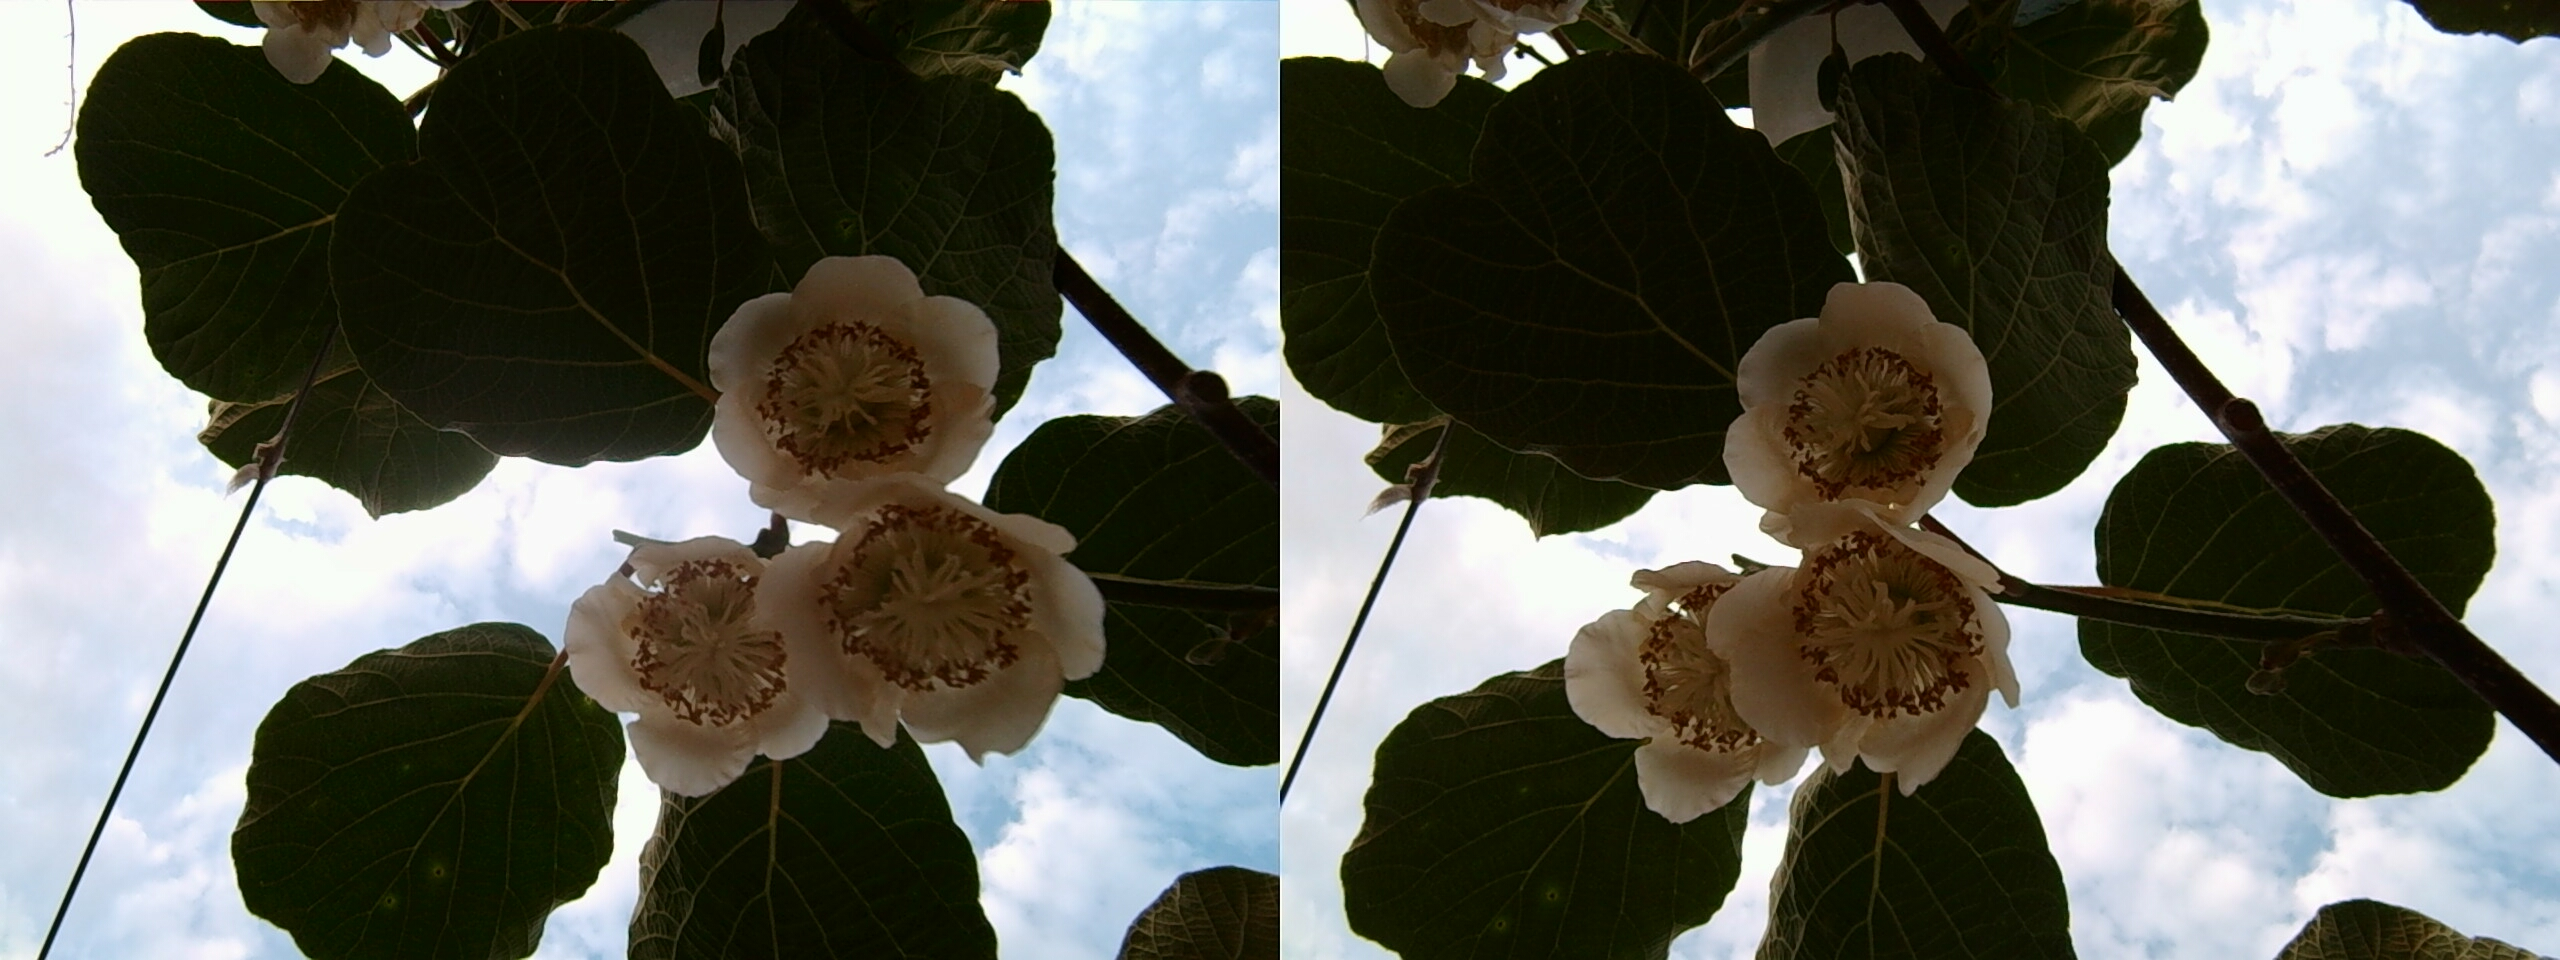flower: (774, 483, 1100, 744), (1718, 508, 2013, 774), (709, 245, 986, 513), (563, 516, 833, 789), (1726, 269, 1982, 532), (1571, 565, 1783, 816)
